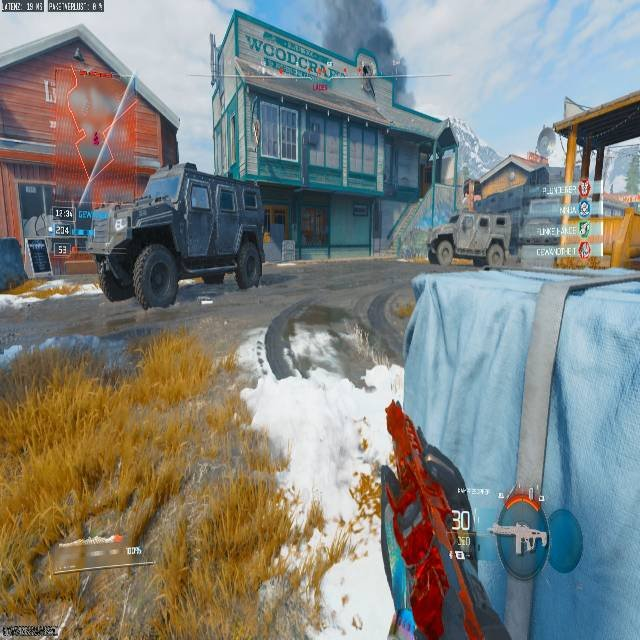head: (286, 312, 370, 381)
player: (237, 303, 411, 392)
